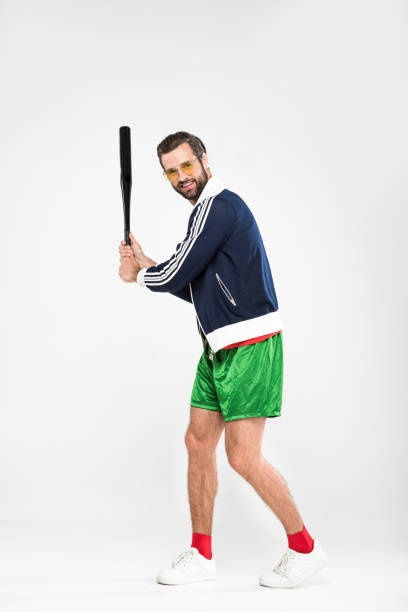bita: (113, 116, 143, 263)
